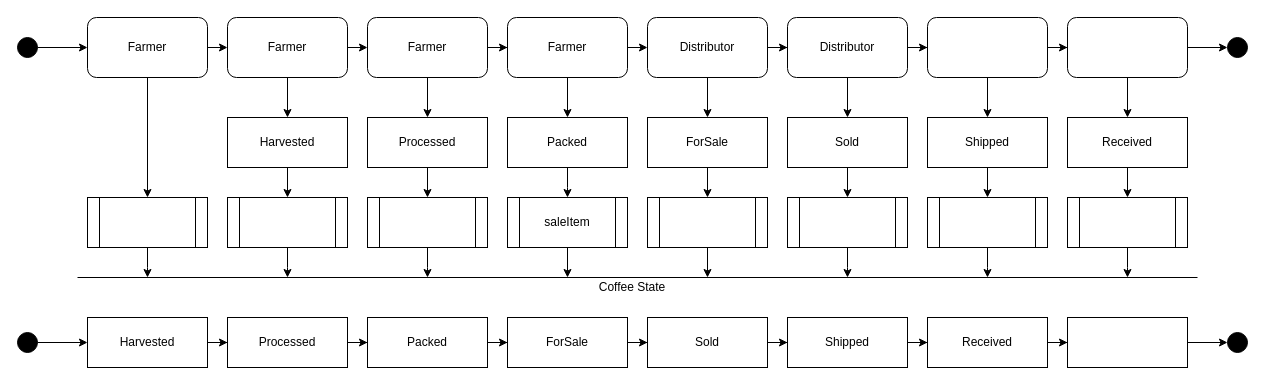
This 1265x385 diagram has some shape labels left out. Here are the shapes that lost their labels. From the top down, the box of each, then its label:
(926, 16, 1048, 78): Retailer
(1066, 16, 1188, 78): Consumer
(86, 196, 208, 248): harvestItem
(226, 196, 348, 248): processItem
(366, 196, 488, 248): packItem
(646, 196, 768, 248): butItem
(786, 196, 908, 248): shipItem
(926, 196, 1048, 248): receiveItem
(1066, 196, 1188, 248): purchaseItem
(1066, 316, 1188, 368): Purchased
